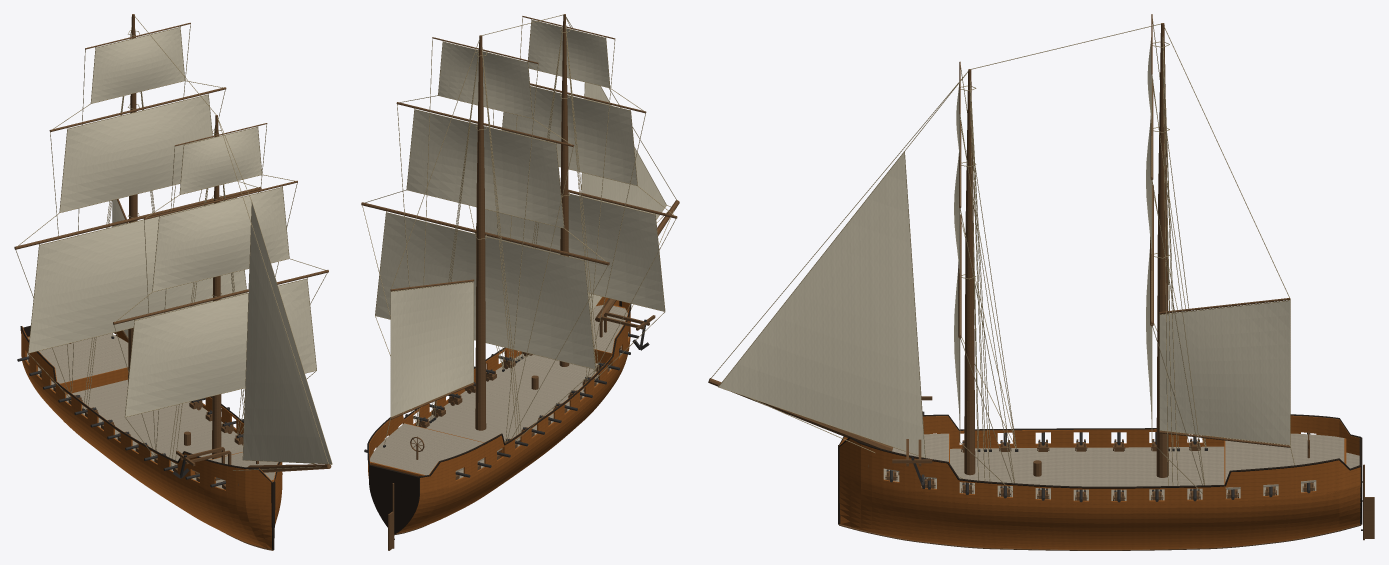
3 views of the same model, side by side, from view 1: azimuth 30°, elevation 25°; view 2: azimuth 150°, elevation 25°; view 3: azimuth 270°, elevation 25° (orthographic). The views are drawn at different scales.
Visible parts, largest first — view 1: lod1_main_square_00, lod1_fore_square_00, lod1_jib_00, lod1_hull_shell_starboard, lod1_main_square_01, lod1_fore_square_01, lod1_main_deck, lod1_main_square_02, lod1_fore_square_02, lod1_castle_deck_0, lod1_fore, lod1_main_square_00_yard (+10 smaller); view 2: lod1_main_square_00, lod1_main_square_01, lod1_fore_square_00, lod1_main_gaff_03, lod1_hull_shell_starboard, lod1_main_deck, lod1_fore_square_01, lod1_main_square_02, lod1_fore_square_02, lod1_main, lod1_castle_deck_0, lod1_jib_00 (+12 smaller); view 3: lod1_hull_shell_port, lod1_jib_00, lod1_main_gaff_03, lod1_main_deck, lod1_hull_shell_starboard, lod1_fore, lod1_castle_deck_0, lod1_main, lod1_gunwale_port, lod1_keel.
Boxes of the visible parts, <box> form: lod1_main_square_00: <box>28,197,246,352</box>; lod1_fore_square_00: <box>125,279,316,416</box>; lod1_jib_00: <box>243,203,331,463</box>; lod1_hull_shell_starboard: <box>21,326,272,548</box>; lod1_main_square_01: <box>60,95,212,212</box>; lod1_fore_square_01: <box>153,187,289,291</box>; lod1_main_deck: <box>27,353,242,488</box>; lod1_main_square_02: <box>91,27,184,103</box>; lod1_fore_square_02: <box>180,127,261,194</box>; lod1_castle_deck_0: <box>28,333,128,383</box>; lod1_fore: <box>212,115,221,459</box>; lod1_main_square_00_yard: <box>14,187,261,249</box>; lod1_main_square_00: <box>375,213,595,368</box>; lod1_main_square_01: <box>407,110,563,227</box>; lod1_fore_square_00: <box>476,194,664,311</box>; lod1_main_gaff_03: <box>391,282,473,416</box>; lod1_hull_shell_starboard: <box>397,301,630,533</box>; lod1_main_deck: <box>426,332,628,478</box>; lod1_fore_square_01: <box>502,86,637,185</box>; lod1_main_square_02: <box>438,42,532,117</box>; lod1_fore_square_02: <box>528,20,609,87</box>; lod1_main: <box>475,35,486,430</box>; lod1_castle_deck_0: <box>370,423,502,475</box>; lod1_jib_00: <box>581,82,666,312</box>; lod1_hull_shell_port: <box>839,438,1360,549</box>; lod1_jib_00: <box>719,152,924,457</box>; lod1_main_gaff_03: <box>1160,301,1289,444</box>; lod1_main_deck: <box>883,446,1359,500</box>; lod1_hull_shell_starboard: <box>839,415,1359,455</box>; lod1_fore: <box>964,69,975,475</box>; lod1_castle_deck_0: <box>1225,433,1344,489</box>; lod1_main: <box>1156,23,1168,477</box>; lod1_gunwale_port: <box>839,436,1361,488</box>; lod1_keel: <box>839,524,1361,550</box>.
Bounding box in the file's own units: 21.43 × 37.95 × 43.44.
Materials: 7 (7 with a texture image).
